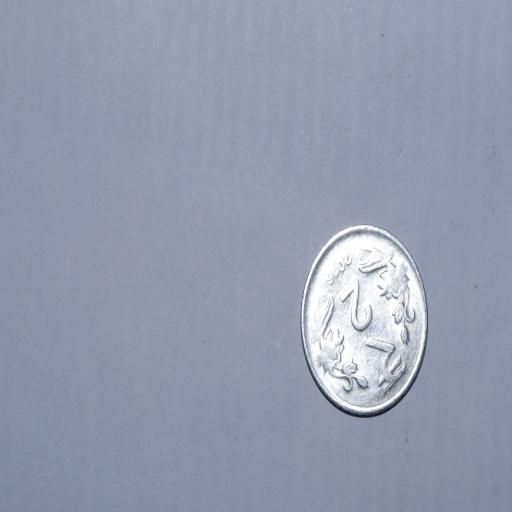rupee2: (296, 224, 430, 422)
